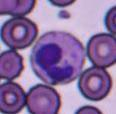N: (29, 30, 86, 84)
